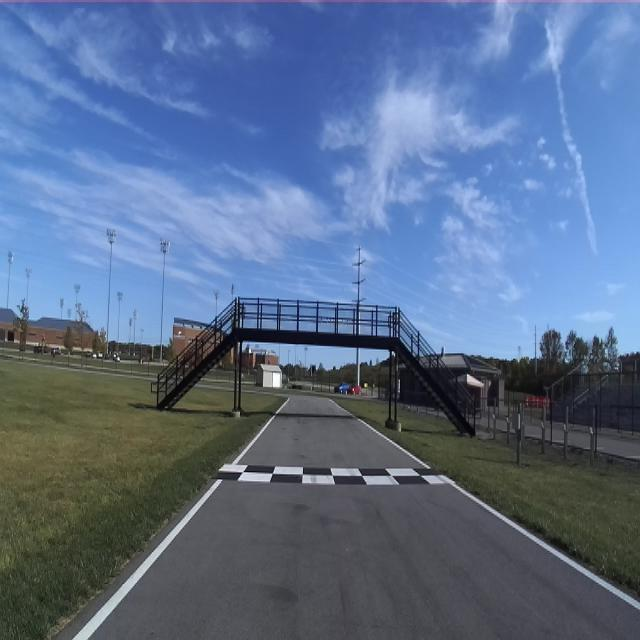white-line: (440, 475, 640, 611), (72, 479, 222, 639), (231, 396, 289, 464), (357, 419, 430, 468)
